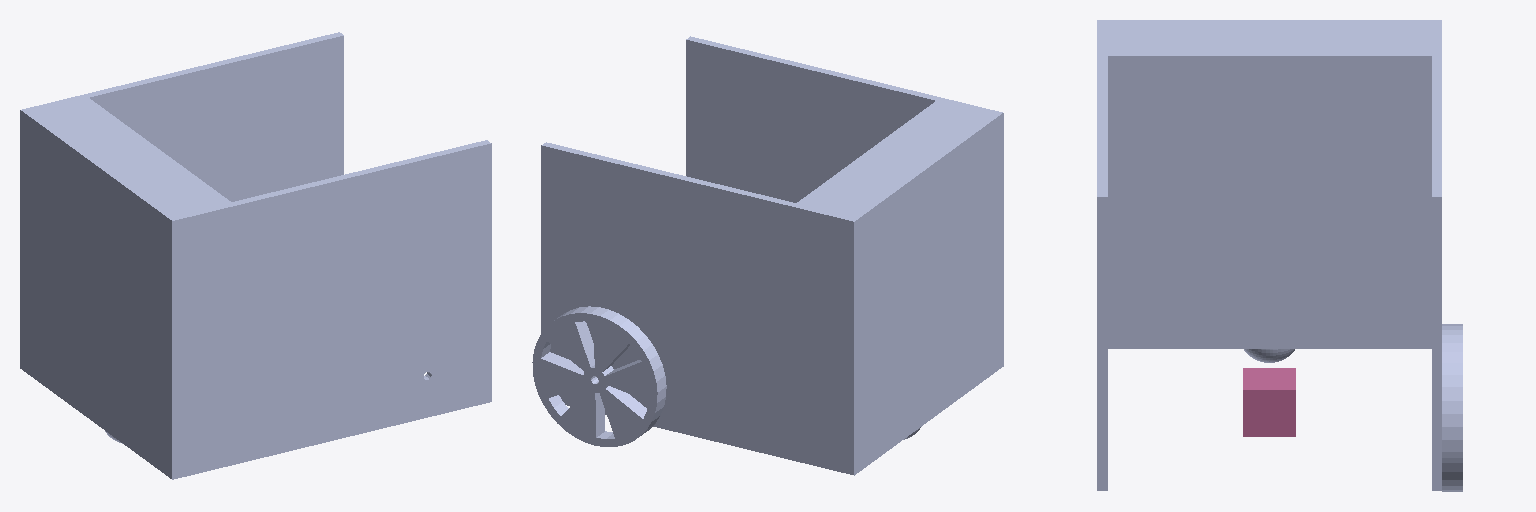
URDF robot description (box_robot11):
<?xml version="1.0" encoding="utf-8"?>
<!-- This URDF was automatically created by SolidWorks to URDF Exporter! Originally created by [author] ([email redacted]) 
     Commit Version: 1.6.0-1-g15f4949  Build Version: 1.6.7594.29634
     For more information, please see http://wiki.ros.org/sw_urdf_exporter -->
<robot
  name="box_robot11">

<link name="dummy">
   </link>
  <link
    name="base_link">
    <inertial>
      <origin
        xyz="-0.12079 3.3394E-16 0.15582"
        rpy="0 0 0" />
      <mass
        value="5" />
      <inertia
        ixx="0.20526"
        ixy="-1.4863E-17"
        ixz="0.00027898"
        iyy="0.16522"
        iyz="-8.8267E-18"
        izz="0.21001" />
    </inertial>
    <visual>
      <origin
        xyz="0 0 0"
        rpy="0 0 0" />
      <geometry>
        <mesh
          filename="package://box_robot11/meshes/base_link.STL" />
      </geometry>
      <material
        name="">
        <color
          rgba="0.79216 0.81961 0.93333 1" />
      </material>
    </visual>
    <collision>
      <origin
        xyz="0 0 0"
        rpy="0 0 0" />
      <geometry>
        <mesh
          filename="package://box_robot11/meshes/base_link.STL" />
      </geometry>
    </collision>
  </link>

  <joint name="dummy_joint" type="fixed">
     <parent link="dummy"/>
     <child link="base_link"/>
  </joint>

  <link
    name="castor_link">
    <inertial>
      <origin
        xyz="1.1657E-15 -5.3639E-17 -3.3307E-16"
        rpy="0 0 0" />
      <mass
        value="1" />
      <inertia
        ixx="4.0715E-05"
        ixy="-8.1193E-39"
        ixz="0"
        iyy="4.0715E-05"
        iyz="0"
        izz="4.0715E-05" />
    </inertial>
    <visual>
      <origin
        xyz="0 0 0"
        rpy="0 0 0" />
      <geometry>
        <mesh
          filename="package://box_robot11/meshes/castor_link.STL" />
      </geometry>
      <material
        name="">
        <color
          rgba="0.79216 0.81961 0.93333 1" />
      </material>
    </visual>
    <collision>
      <origin
        xyz="0 0 0"
        rpy="0 0 0" />
      <geometry>
        <mesh
          filename="package://box_robot11/meshes/castor_link.STL" />
      </geometry>
    </collision>
  </link>
  <joint
    name="castor_joint"
    type="continuous">
    <origin
      xyz="-0.16 0 0"
      rpy="1.5708 0 0" />
    <parent
      link="base_link" />
    <child
      link="castor_link" />
    <axis
      xyz="0 0 1" />
    <dynamics
      damping="0"
      friction="0" />
  </joint>
  <link
    name="right_link">
    <inertial>
      <origin
        xyz="0 0 0.01"
        rpy="0 0 0" />
      <mass
        value="3" />
      <inertia
        ixx="0.00052803"
        ixy="-8.4703E-22"
        ixz="1.9565E-20"
        iyy="0.00052803"
        iyz="-9.7809E-20"
        izz="0.0010359" />
    </inertial>
    <visual>
      <origin
        xyz="0 0 0"
        rpy="0 0 0" />
      <geometry>
        <mesh
          filename="package://box_robot11/meshes/right_link.STL" />
      </geometry>
      <material
        name="">
        <color
          rgba="0.79216 0.81961 0.93333 1" />
      </material>
    </visual>
    <collision>
      <origin
        xyz="0 0 0"
        rpy="0 0 0" />
      <geometry>
        <mesh
          filename="package://box_robot11/meshes/right_link.STL" />
      </geometry>
    </collision>
  </link>
  <joint
    name="right_joint"
    type="continuous">
    <origin
      xyz="0.12 -0.165 0.05"
      rpy="1.5708 0.0081643 0" />
    <parent
      link="base_link" />
    <child
      link="right_link" />
    <axis
      xyz="0 0 1" />
  </joint>
  <link
    name="left_link">
    <inertial>
      <origin
        xyz="-6.9389E-17 -2.7756E-17 -0.01"
        rpy="0 0 0" />
      <mass
        value="3" />
      <inertia
        ixx="0.00052803"
        ixy="-6.0986E-20"
        ixz="7.0748E-18"
        iyy="0.00052803"
        iyz="6.9586E-18"
        izz="0.0010359" />
    </inertial>
    <visual>
      <origin
        xyz="0 0 0"
        rpy="0 0 0" />
      <geometry>
        <mesh
          filename="package://box_robot11/meshes/left_link.STL" />
      </geometry>
      <material
        name="">
        <color
          rgba="0.79216 0.81961 0.93333 1" />
      </material>
    </visual>
    <collision>
      <origin
        xyz="0 0 0"
        rpy="0 0 0" />
      <geometry>
        <mesh
          filename="package://box_robot11/meshes/left_link.STL" />
      </geometry>
    </collision>
  </link>
  <joint
    name="left_joint"
    type="continuous">
    <origin
      xyz="0.12 0.165 0.05"
      rpy="1.5708 0.20003 0" />
    <parent
      link="base_link" />
    <child
      link="left_link" />
    <axis
      xyz="0 0 1" />
  </joint>
  <link
    name="slider_link">
    <inertial>
      <origin
        xyz="0.155 -0.16031 -0.005"
        rpy="0 0 0" />
      <mass
        value="0.5" />
      <inertia
        ixx="0.0085213"
        ixy="-3.0018E-18"
        ixz="-6.0638E-19"
        iyy="0.0080038"
        iyz="8.6551E-19"
        izz="0.016509" />
    </inertial>
    <visual>
      <origin
        xyz="0 0 0"
        rpy="0 0 0" />
      <geometry>
        <mesh
          filename="package://box_robot11/meshes/slider_link.STL" />
      </geometry>
      <material
        name="">
        <color
          rgba="0.79216 0.81961 0.93333 1" />
      </material>
    </visual>
    <collision>
      <origin
        xyz="0 0 0"
        rpy="0 0 0" />
      <geometry>
        <mesh
          filename="package://box_robot11/meshes/slider_link.STL" />
      </geometry>
    </collision>
  </link>
  <joint
    name="slider_joint"
    type="prismatic">
    <origin
      xyz="0.2 0.155 0"
      rpy="-1.5708 0 -1.5708" />
    <parent
      link="base_link" />
    <child
      link="slider_link" />
    <axis
      xyz="0 1 0" />
    <limit
      lower="-0.3"
      upper="0"
      effort="10000"
      velocity="5.0" />
    <dynamics
      damping="0"
      friction="0" />
  </joint>

   <link name="laser_link">
   <inertial>
      <mass value="0.5"/>
      <origin rpy="0 0 0" xyz="0 0 0"/>
      <inertia ixx="0.00270833333333" ixy="0" ixz="0" iyy="0.00104166666667" iyz="0" izz="0.00208333333333"/>
    </inertial>
    <collision>
      <geometry>
        <box size="0.01 0.01 0.05"/>
      </geometry>
    </collision>
    <visual>
      <geometry>
        <box size="0.05 0.05 0.05"/>
      </geometry>
      <material name="white"/>
    </visual>
  </link>

  <joint name="joint_sensor_laser" type="fixed">
    <origin xyz="0.225 0 0.105" rpy="0 0 0"/>
    <parent link="base_link"/>
    <child link="laser_link"/>
  </joint>

  <gazebo>
    <plugin filename="libgazebo_ros_diff_drive.so" name="differential_drive_controller">
      <alwaysOn>true</alwaysOn>
      <updateRate>20</updateRate>
      <leftJoint>left_joint</leftJoint>
      <rightJoint>right_joint</rightJoint>
      <wheelSeparation>0.330</wheelSeparation>
      <wheelDiameter>0.16</wheelDiameter>
      <torque>8</torque>
      <commandTopic>cmd_vel</commandTopic>
      <odometryTopic>odom</odometryTopic>
      <odometryFrame>odom</odometryFrame>
      <robotBaseFrame>base_link</robotBaseFrame>
    </plugin>
  </gazebo>

  <gazebo reference="laser_link">
    <sensor type="ray" name="head_hokuyo_sensor">
      <pose>0 0 0 0 0 0</pose>
      <visualize>false</visualize>
      <update_rate>20</update_rate>
      <ray>
        <scan>
          <horizontal>
            <samples>720</samples>
            <resolution>1</resolution>
            <min_angle>-1.570796</min_angle>
            <max_angle>1.570796</max_angle>
          </horizontal>
        </scan>
        <range>
          <min>0.10</min>
          <max>10.0</max>
          <resolution>0.01</resolution>
        </range>
        <noise>
          <type>gaussian</type>
          <mean>0.0</mean>
          <stddev>0.01</stddev>
        </noise>
      </ray>
      <plugin name="gazebo_ros_head_hokuyo_controller" filename="libgazebo_ros_laser.so">
        <topicName>/robot/laser/scan</topicName>
        <frameName>laser_link</frameName>
      </plugin>
    </sensor>
  </gazebo>

  <gazebo>
    <plugin name="gazebo_ros_control" filename="libgazebo_ros_control.so">
      <robotNamespace>/box_robot11</robotNamespace>
      <robotSimType>gazebo_ros_control/DefaultRobotHWSim</robotSimType>
      <legacyModeNS>true</legacyModeNS>
    </plugin>
  </gazebo>

  <!-- transmission -->
  <transmission name="base_to_second_trans">
    <type>transmission_interface/SimpleTransmission</type>
    <actuator name="motor1">
      <mechanicalReduction>1</mechanicalReduction>
    </actuator>
    <joint name="slider_joint">
      <hardwareInterface>PositionJointInterface</hardwareInterface>
    </joint>
  </transmission>

</robot>

--- Render facts (derived) ---
Views: 3 orthographic renders of the robot side by side, from view 1: azimuth 30°, elevation 25°; view 2: azimuth 150°, elevation 25°; view 3: azimuth 270°, elevation 25°.
Model box_robot11 with 7 links and 6 joints (3 continuous, 1 prismatic, 2 fixed), rooted at dummy, posed every joint at zero.
Links seen in each view (by area): view 1: base_link; view 2: base_link, left_link; view 3: base_link, laser_link, left_link.
Boxes of the visible links, x1,y1,x2,y2 form: base_link: (20, 32, 491, 479); base_link: (541, 36, 1003, 475); left_link: (532, 306, 666, 446); base_link: (1097, 20, 1441, 490); laser_link: (1243, 368, 1295, 436); left_link: (1442, 324, 1462, 491).
Size in the robot's own frame: 0.45 by 0.35 by 0.34 metres.
3 mesh visuals loaded from 5 distinct referenced files (3 binary STL); not drawn: 2 (reference not matched to a file when rendering).
